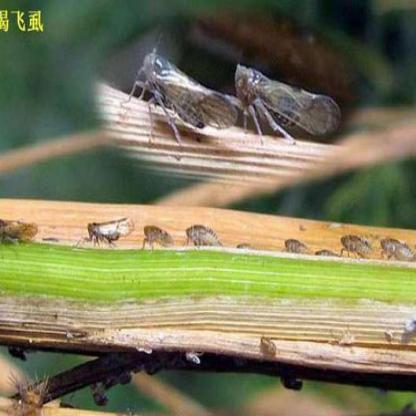brown-planthopper: (236, 61, 346, 147), (136, 48, 236, 138), (80, 219, 133, 250), (380, 234, 416, 268), (141, 222, 176, 255), (339, 232, 373, 262), (184, 224, 218, 251), (0, 219, 40, 240), (258, 334, 280, 356)
